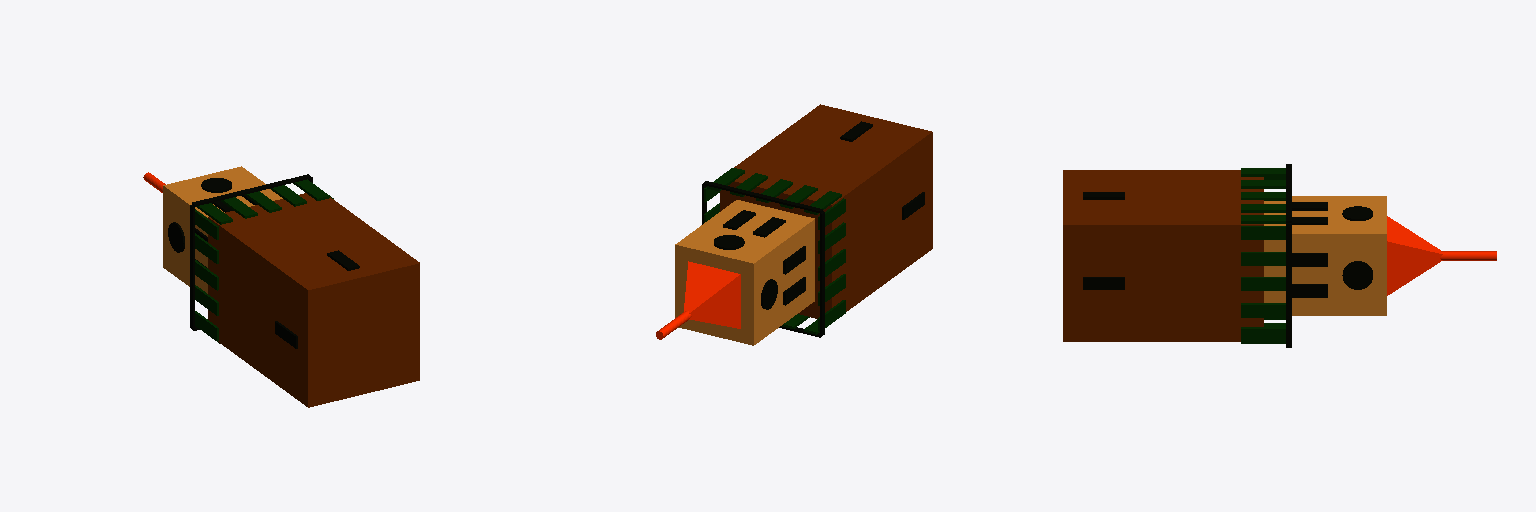
The model's file is torre.obj.
The picture shows the model from 3 angles: view 1: azimuth 30°, elevation 25°; view 2: azimuth 150°, elevation 25°; view 3: azimuth 270°, elevation 25°; orthographic projection.
Parts seen in each view (by area): view 1: Plane, Plane.001, Cube.001_Cube.002, Cube.002_Cube.006; view 2: Plane, Plane.001, Cube.002_Cube.006, Cube.001_Cube.002, Cone; view 3: Plane, Plane.001, Cube.003_Cube.007, Cube.001_Cube.002, Cone, Cylinder.
Part boxes in pixels (left/top/right/bottom): Plane: left=208, top=193, right=419, bottom=407; Plane.001: left=163, top=166, right=282, bottom=293; Cube.001_Cube.002: left=192, top=174, right=359, bottom=270; Cube.002_Cube.006: left=168, top=205, right=297, bottom=348; Plane: left=720, top=104, right=932, bottom=318; Plane.001: left=675, top=200, right=814, bottom=345; Cube.002_Cube.006: left=761, top=192, right=924, bottom=335; Cube.001_Cube.002: left=703, top=121, right=872, bottom=249; Cone: left=684, top=261, right=740, bottom=328; Plane: left=1063, top=170, right=1263, bottom=341; Plane.001: left=1264, top=196, right=1386, bottom=315; Cube.003_Cube.007: left=1083, top=223, right=1372, bottom=346; Cube.001_Cube.002: left=1083, top=164, right=1372, bottom=224; Cone: left=1387, top=216, right=1442, bottom=295; Cylinder: left=1440, top=251, right=1496, bottom=260.
Bounding box in the file's own units: 10.76 × 10.76 × 33.49.